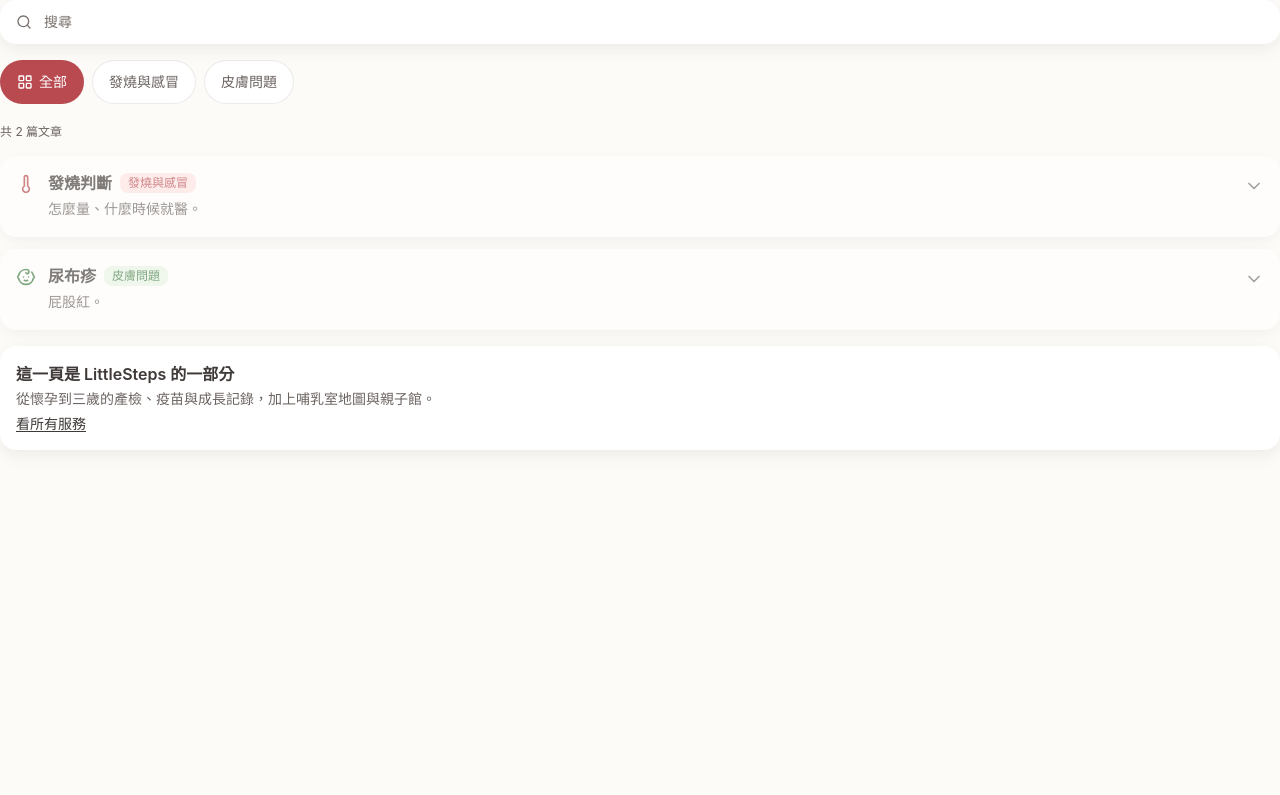
Test: WikiBrowser: headings and the disclosure › labels the opened body with the heading and points the toggle at it
Click the button "發燒判斷".
click(80, 183)  # box [48,161,112,205]
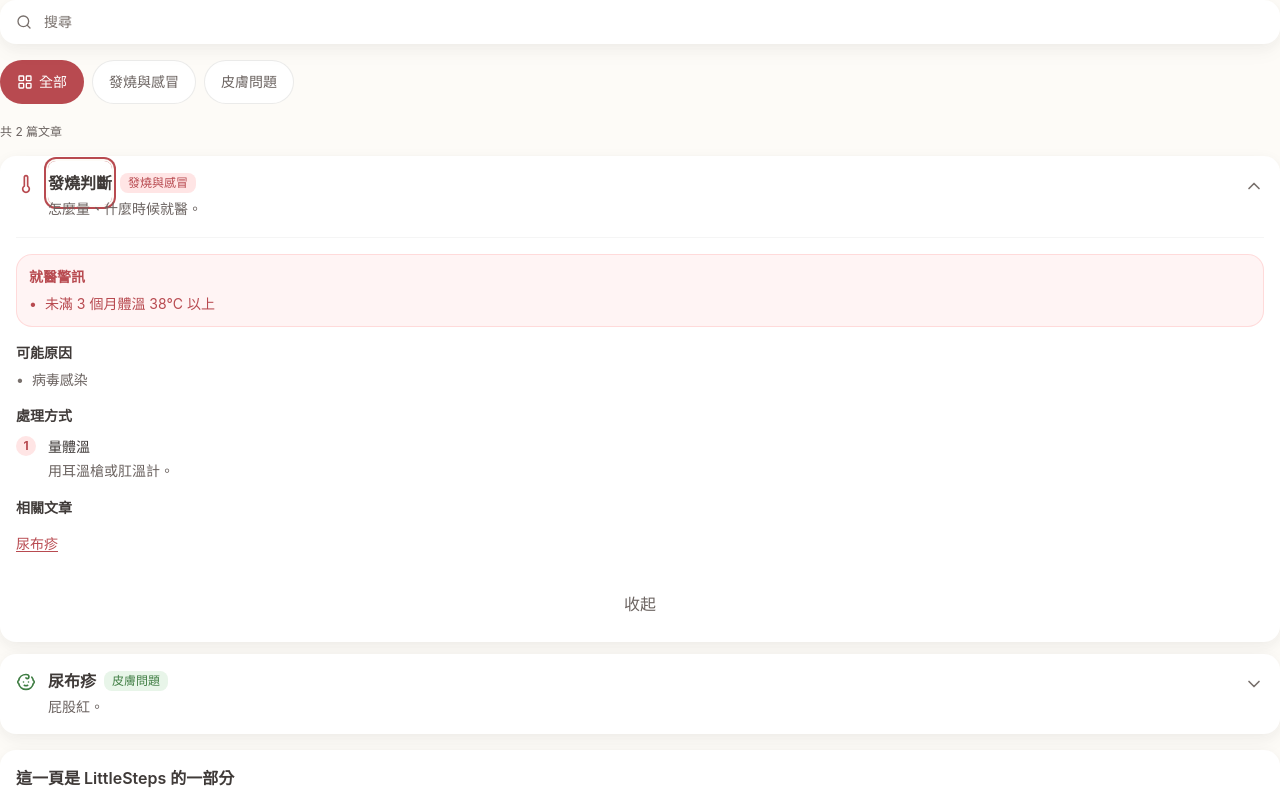
Check: the heading "處理方式" is shown, box [16,407,72,424]
